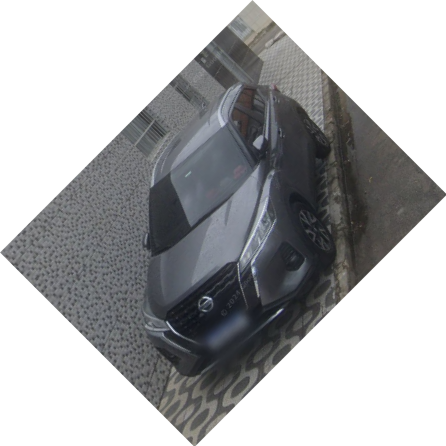car: (142, 82, 336, 365)
